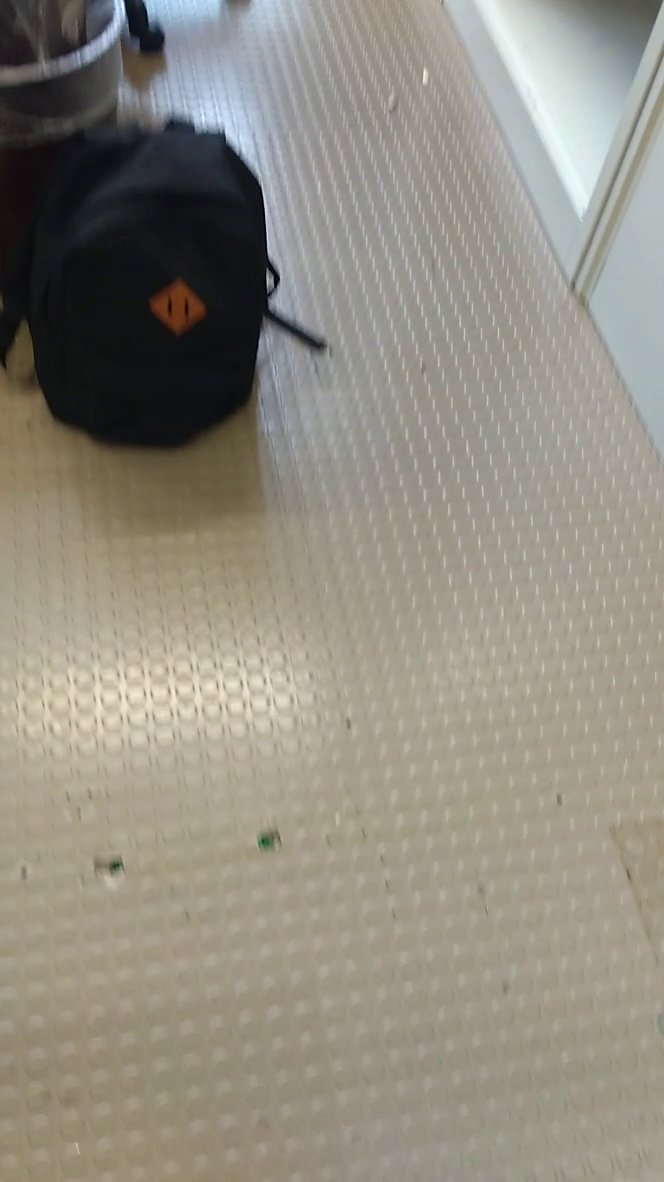bag: (2, 97, 293, 467)
